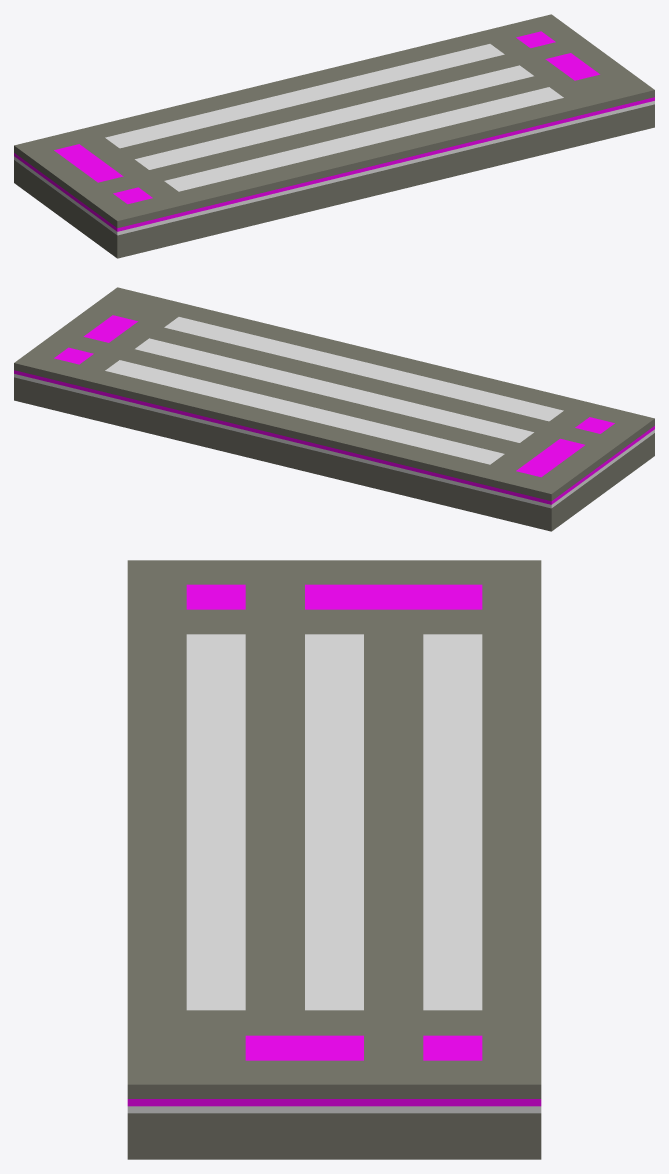
Rendered from PlayerBase.dae.
The picture shows the model from 3 angles, top to bottom: view 1: azimuth 30°, elevation 25°; view 2: azimuth 150°, elevation 25°; view 3: azimuth 270°, elevation 25°; orthographic projection. The views are drawn at different scales.
Parts seen in each view (by area): view 1: Cube; view 2: Cube; view 3: Cube.
Boxes of the visible parts, x1,y1,x2,y2 form: Cube: (14,14,654,258); Cube: (14,287,654,531); Cube: (127,560,541,1159).
Size of the model in its own units: 6 by 2 by 0.4.
